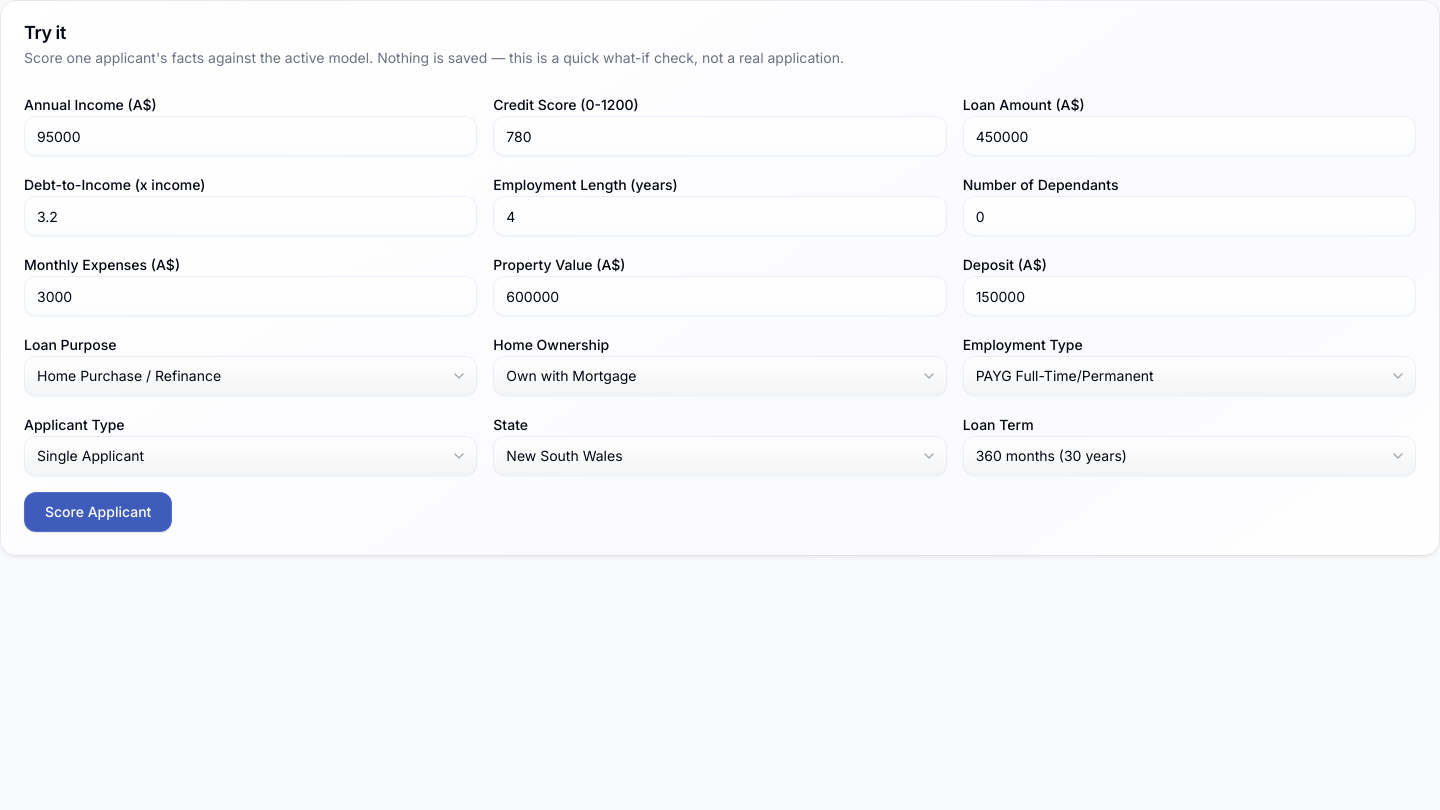
TryItTab › renders a 400 field error next to the offending field
Click the button "Score Applicant" at {"x": 98, "y": 512}, box x1=24 y1=492 x2=172 y2=532
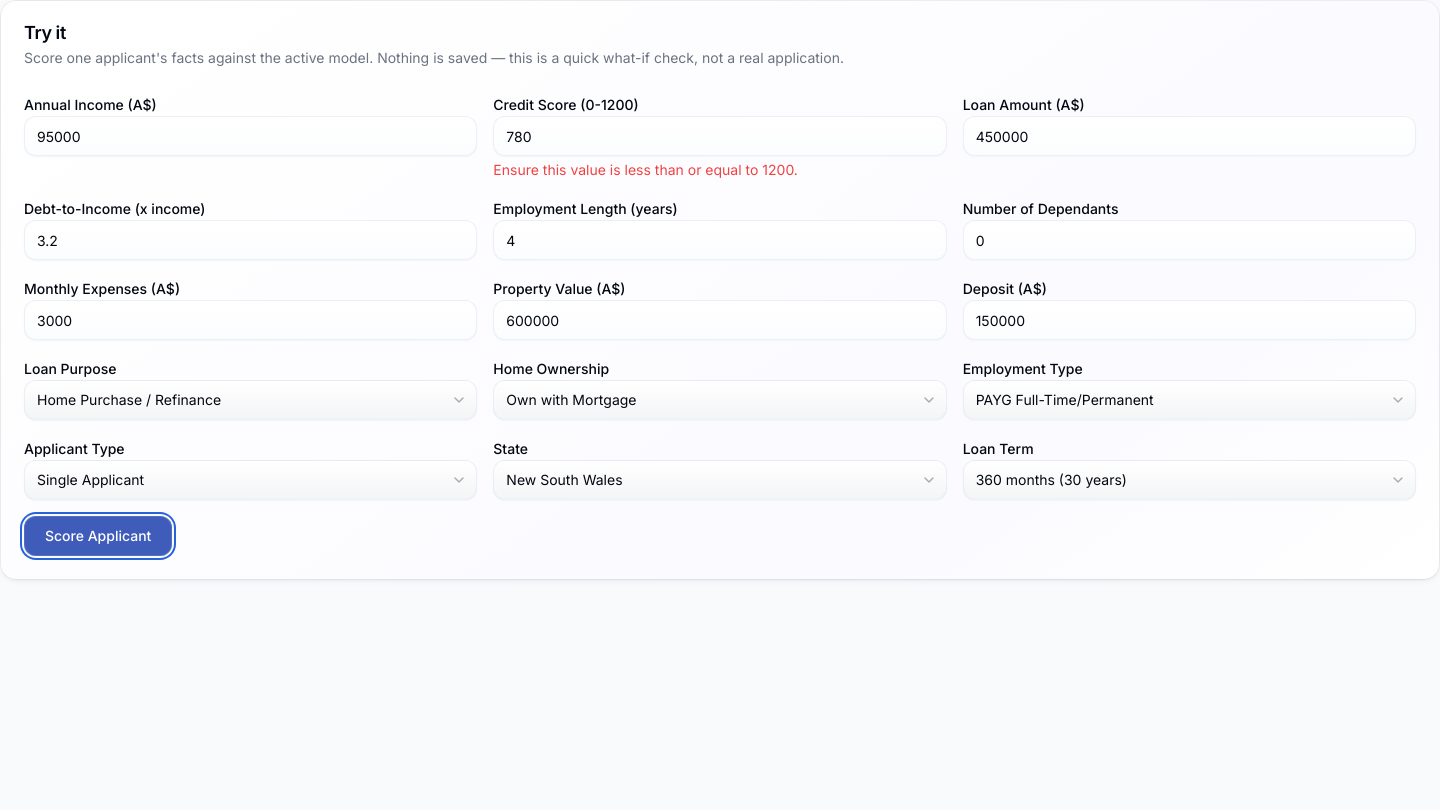
Now the text "Ensure this value is less than or equal to 1200." is shown, box x1=493 y1=161 x2=798 y2=178
